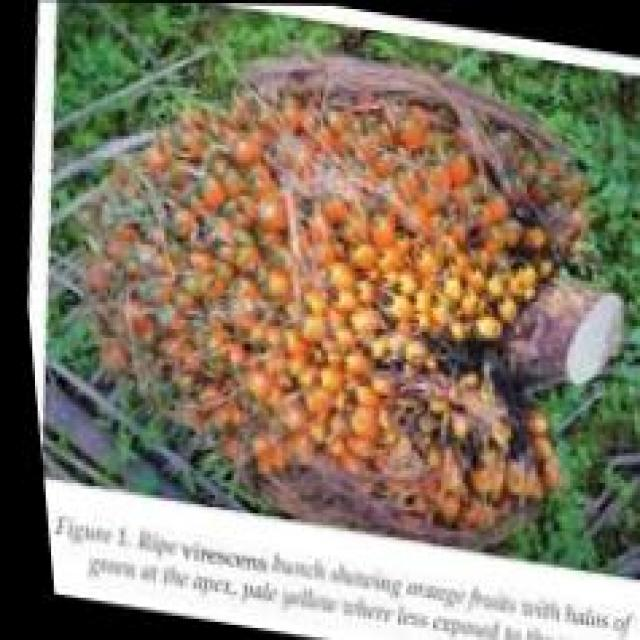Ripefruit: (58, 44, 604, 542)
